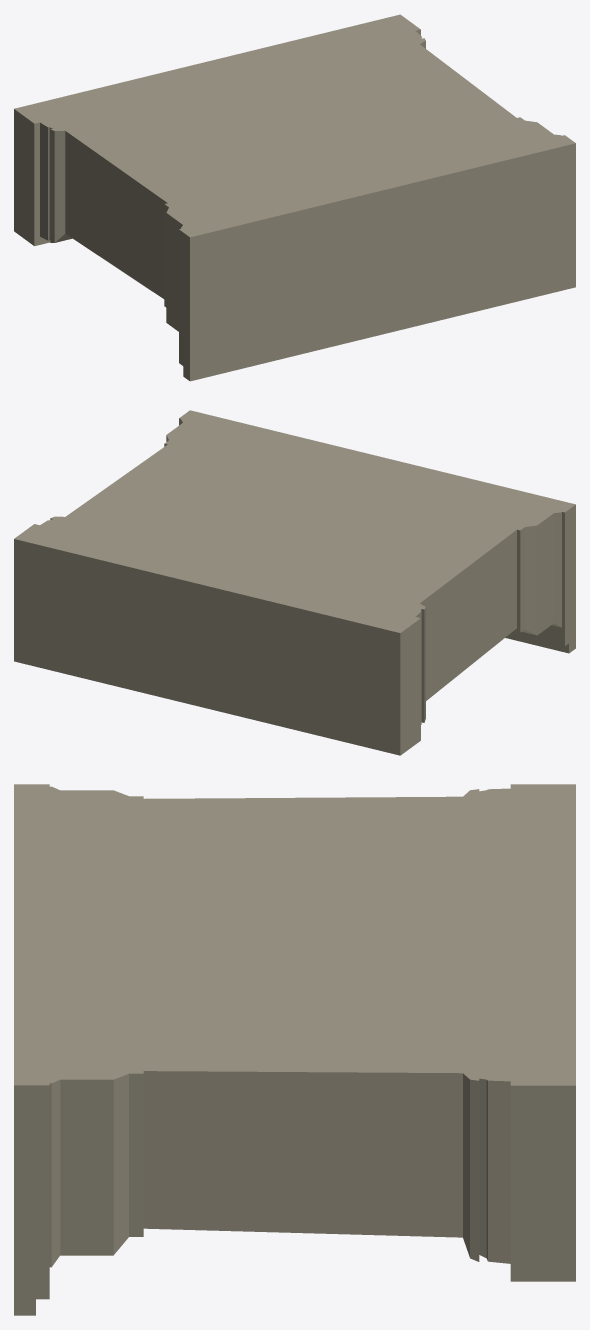
Rendered from fireplace.obj.
3 views of the same model, one above another, from view 1: azimuth 30°, elevation 25°; view 2: azimuth 150°, elevation 25°; view 3: azimuth 270°, elevation 25° (orthographic). The views are drawn at different scales.
Parts seen in each view (by area): view 1: fireplace; view 2: fireplace; view 3: fireplace.
Boxes of the visible parts, left/top/right/bottom form: fireplace: left=14, top=14, right=575, bottom=381; fireplace: left=14, top=410, right=575, bottom=755; fireplace: left=14, top=784, right=575, bottom=1315.
Size of the model in its own units: 60.91 by 21.7 by 48.
